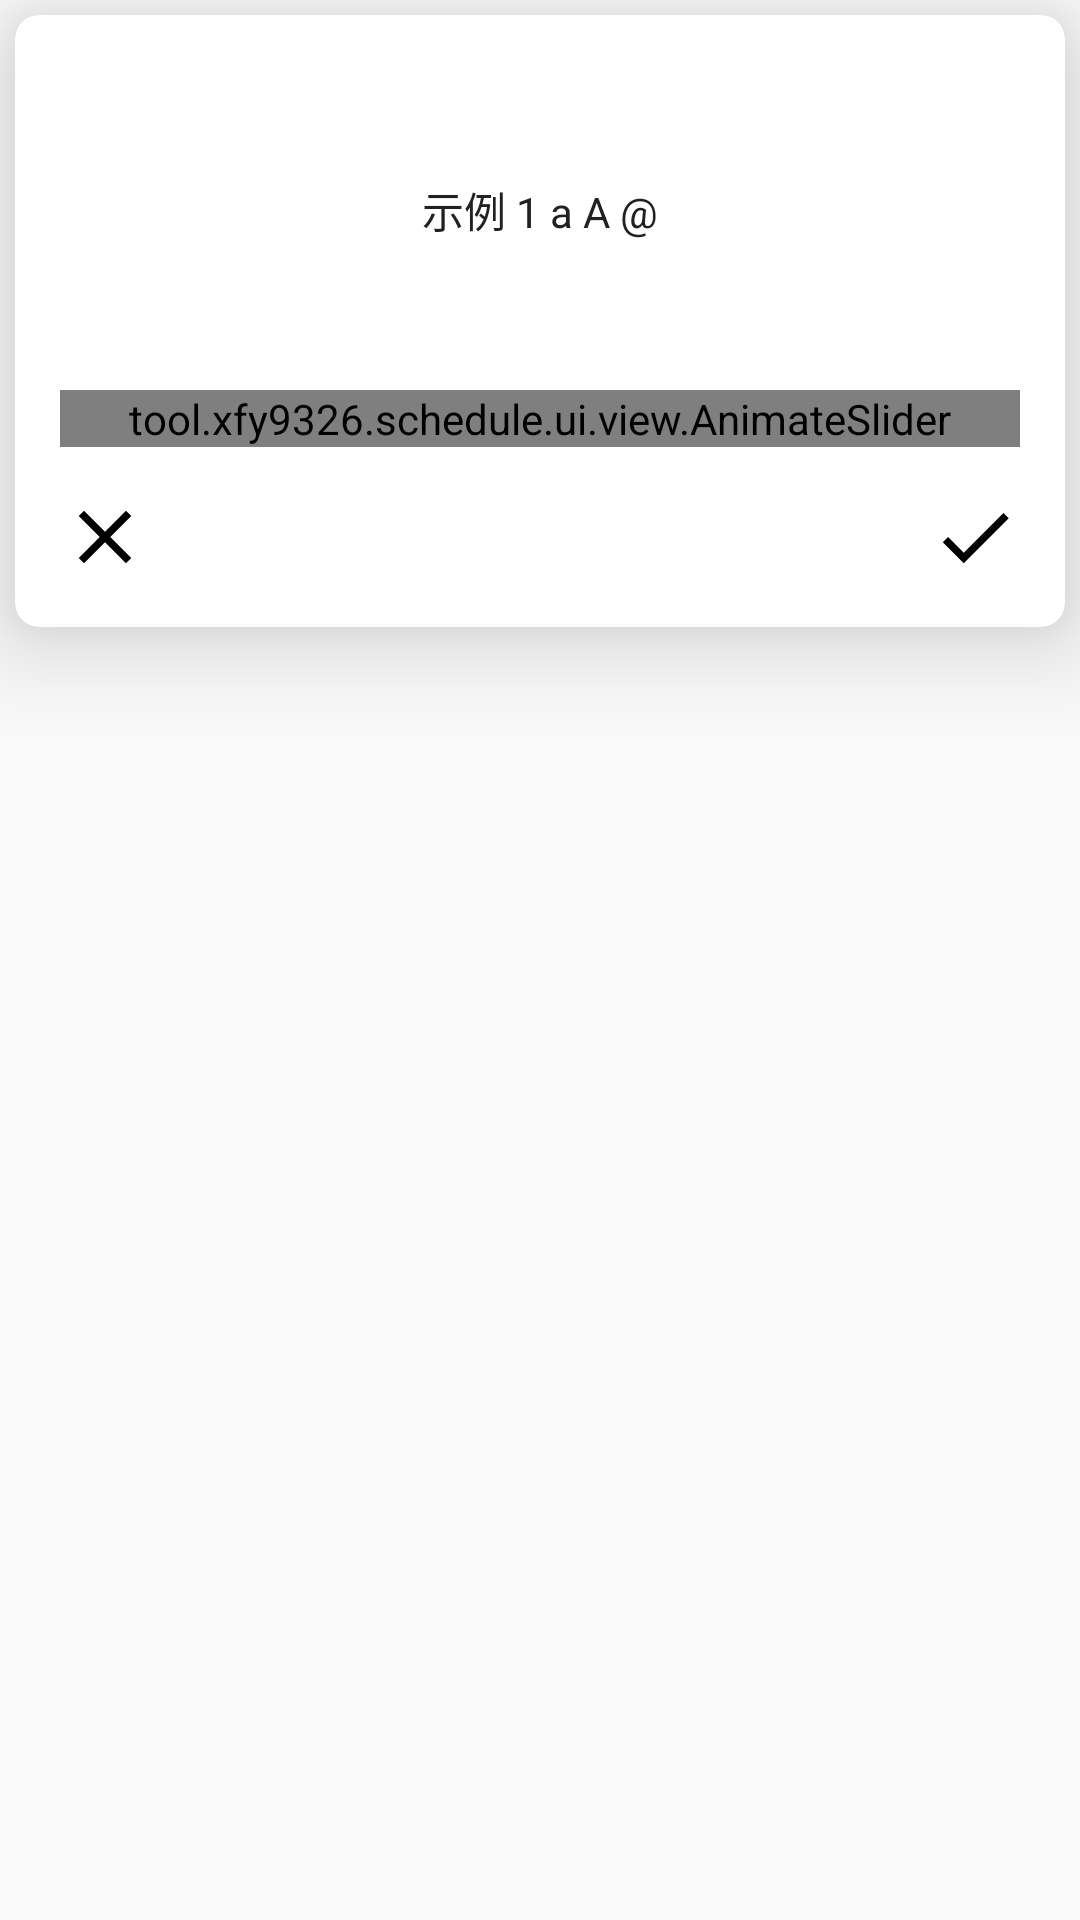

Icon click points for this 1080*1920 phone screenshot, format (x=x, y=y):
check: (x=976, y=538)
close: (x=105, y=537)
